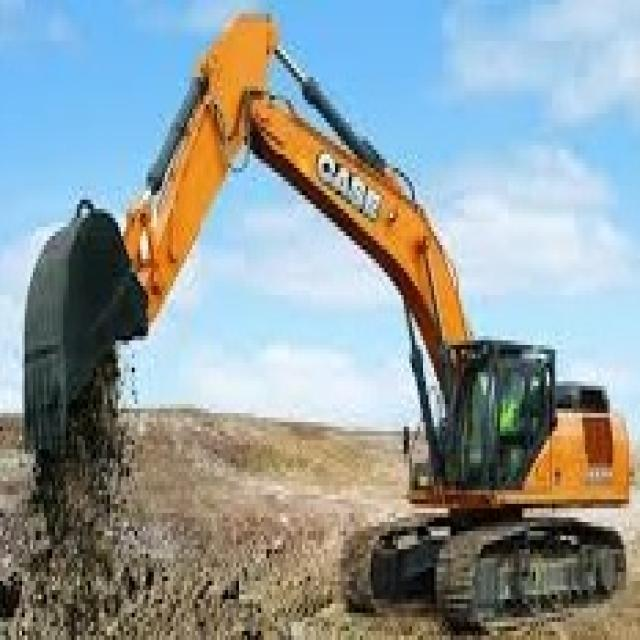excavator: (362, 311, 632, 619)
